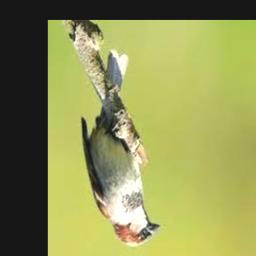Sparrow: (80, 50, 159, 247)
